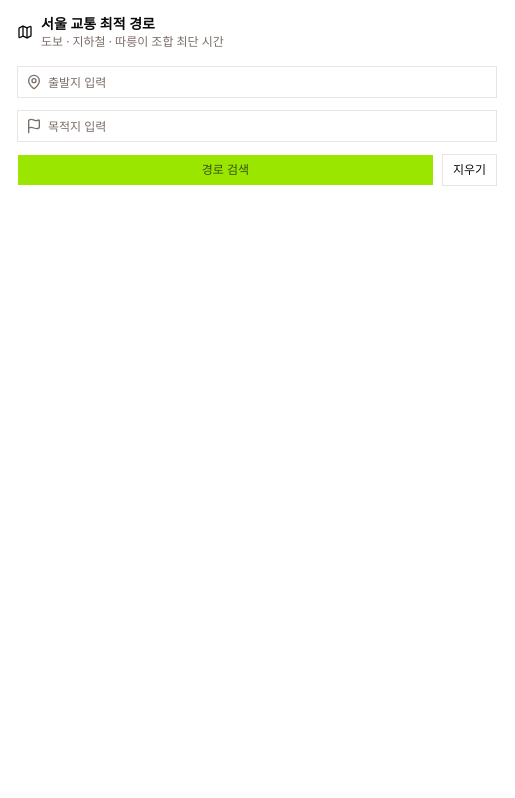
Test case: TransportRouteFinder › renders up to 3 route cards after successful search (Scenario 1)
The width and height of the screenshot is (515, 798).
Type "서울역" into the field with placeholder "출발지 입력". click: (269, 82)
box: left=42, top=66, right=496, bottom=98
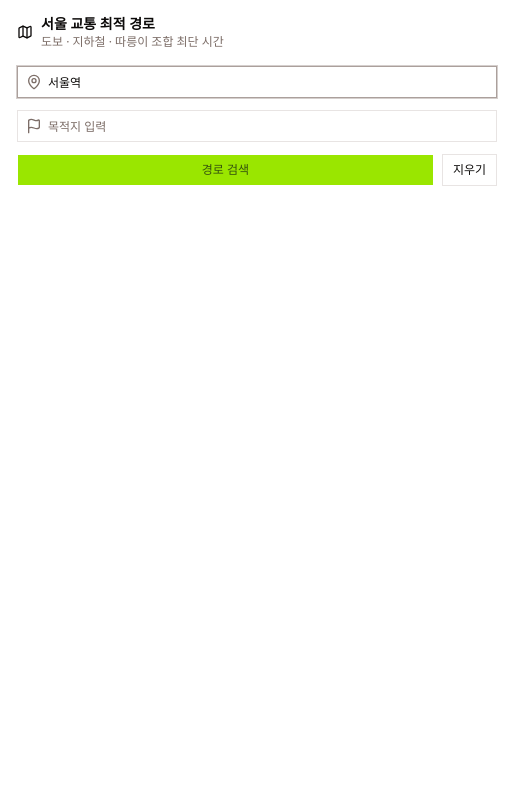
Type "강남역" into the field with placeholder "목적지 입력". click: (269, 126)
box: left=42, top=110, right=496, bottom=142
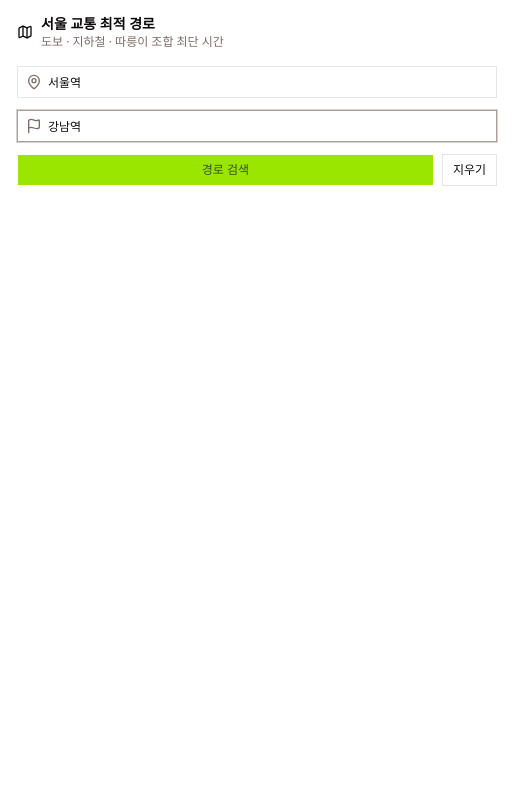
Click the button "경로 검색". click: (225, 170)
box: left=17, top=154, right=434, bottom=186
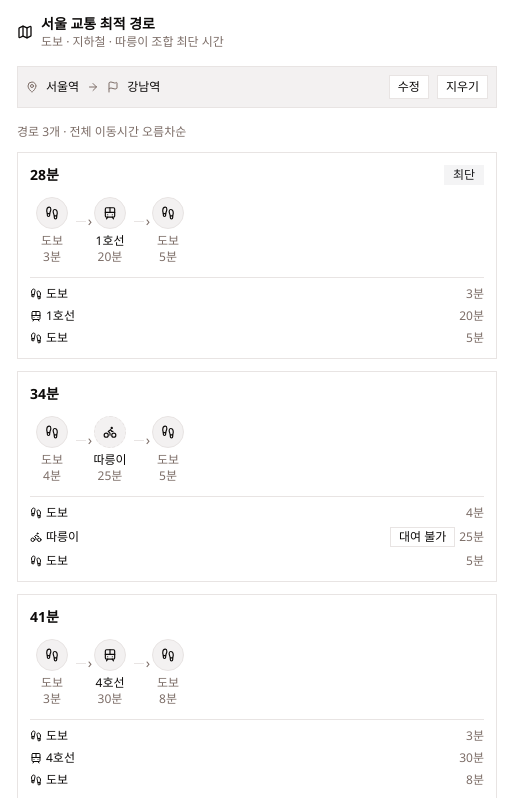
Result: the number of elements with test id "route-card-time" is 3 at left=30, top=165, right=59, bottom=185; left=30, top=384, right=59, bottom=404; left=30, top=607, right=59, bottom=627
